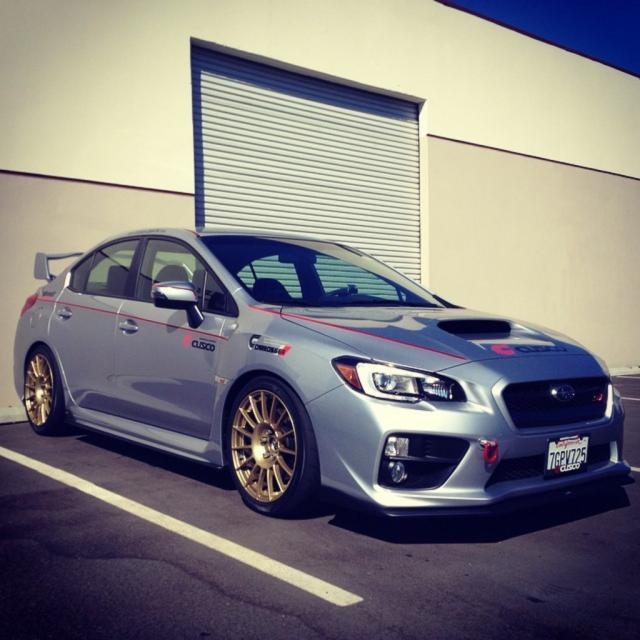car: (16, 222, 616, 518)
